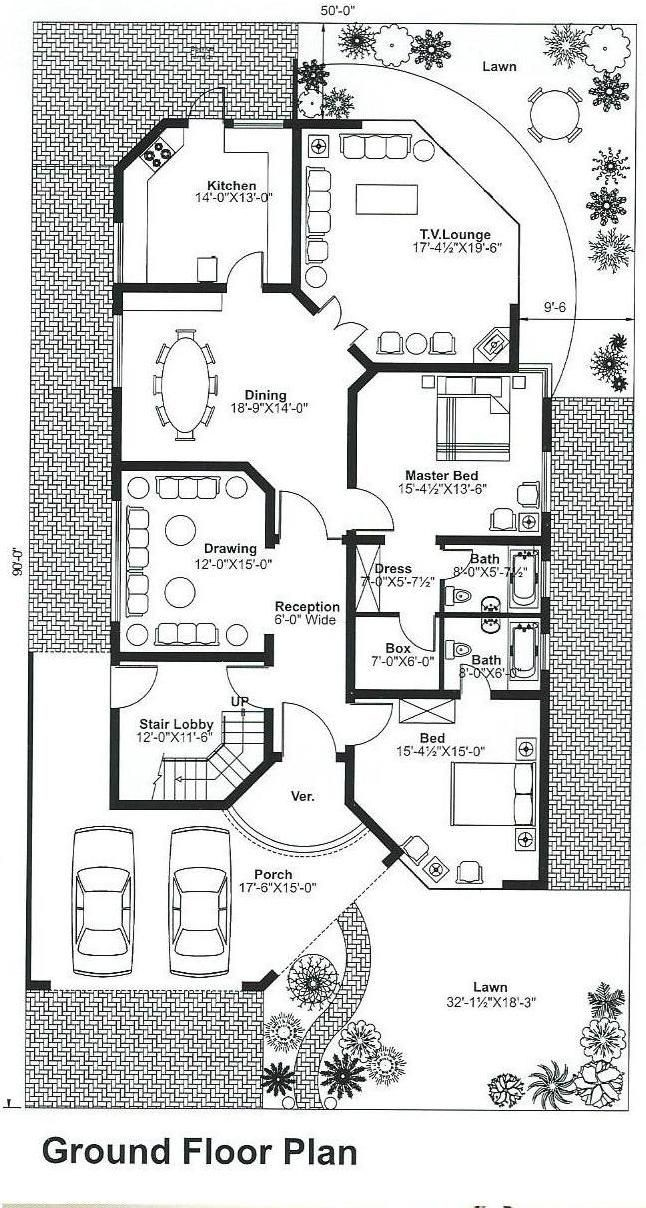door: (264, 480, 346, 552), (340, 482, 429, 537), (273, 687, 334, 758), (207, 660, 284, 715), (383, 591, 444, 658), (309, 287, 371, 347), (353, 693, 412, 752), (109, 669, 168, 722), (218, 250, 270, 291)
room: (109, 441, 373, 710), (114, 276, 360, 511), (66, 652, 310, 824), (97, 104, 307, 302), (334, 524, 562, 706), (347, 371, 560, 545)
wall: (529, 676, 562, 889), (103, 639, 271, 680), (279, 104, 307, 322), (103, 271, 229, 317), (333, 515, 362, 704), (384, 356, 534, 391), (112, 456, 271, 489), (351, 663, 459, 710), (334, 361, 373, 487), (434, 526, 570, 560), (107, 797, 238, 824), (97, 717, 133, 815)
window: (99, 476, 151, 621), (97, 289, 140, 408), (99, 219, 133, 293), (531, 443, 557, 521), (518, 621, 555, 674), (531, 556, 560, 598)
